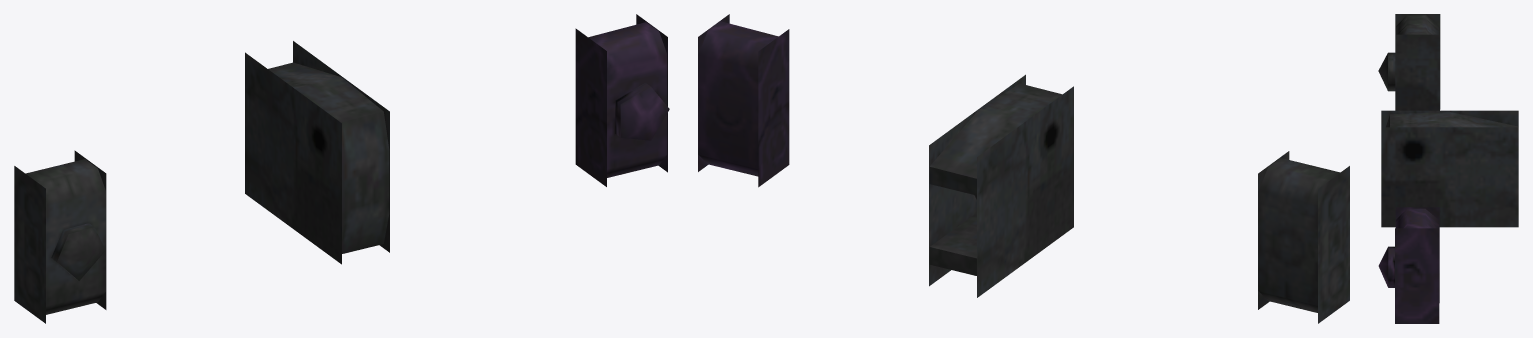
3 renders of one model, left to right at view 1: azimuth 30°, elevation 25°; view 2: azimuth 150°, elevation 25°; view 3: azimuth 270°, elevation 25°, orthographic. The views are drawn at different scales.
Visible parts, largest first — view 1: set_0_group_0; view 2: set_0_group_0; view 3: set_0_group_0.
Part boxes in pixels (x1,y1,x2,y2): set_0_group_0: (14, 14, 669, 323); set_0_group_0: (698, 14, 1349, 323); set_0_group_0: (1378, 14, 1518, 323).
Bounding box in the file's own units: 0.6284 × 0.1365 × 0.1738.
Materials: 1 (1 with a texture image).
